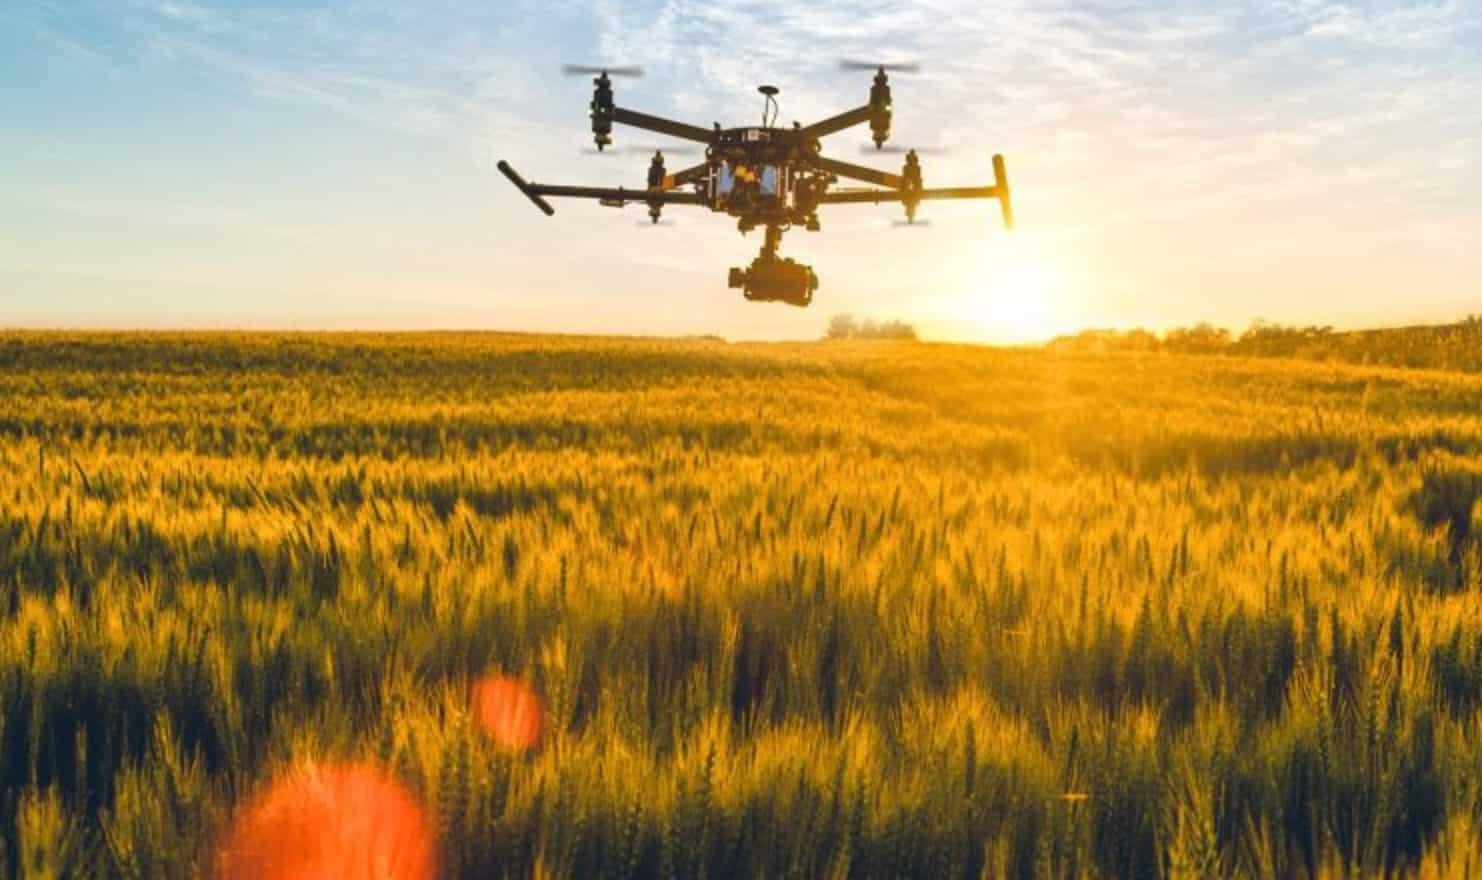drone: (490, 56, 1023, 313)
